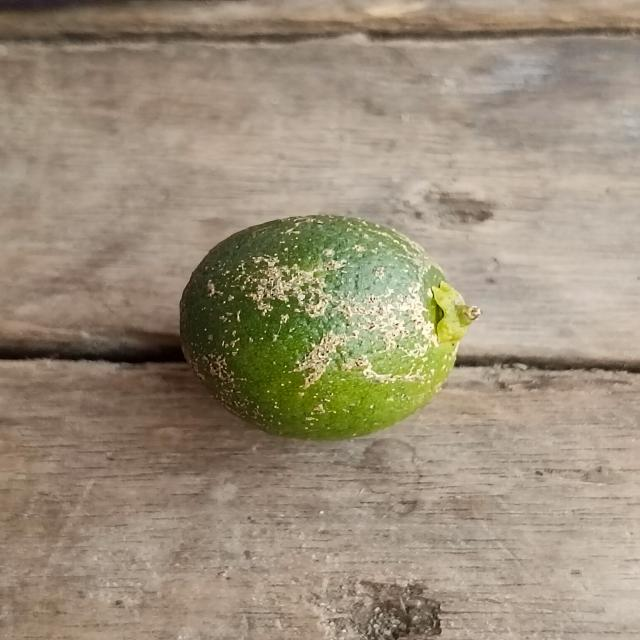scab: (180, 206, 472, 438)
